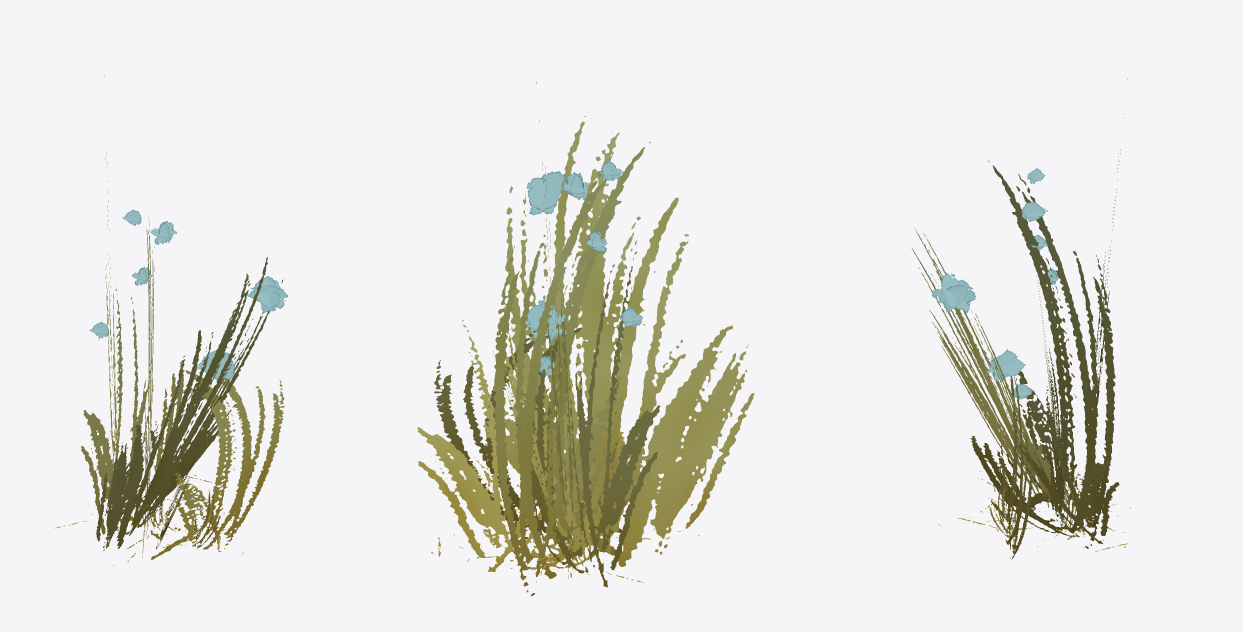
Rendered from grass26.fbx.
3 renders of one model, left to right at view 1: azimuth 30°, elevation 25°; view 2: azimuth 150°, elevation 25°; view 3: azimuth 270°, elevation 25°, orthographic. The views are drawn at different scales.
Parts seen in each view (by area): view 1: Glowing Flower 1_BAKED; view 2: Glowing Flower 1_BAKED; view 3: Glowing Flower 1_BAKED.
Boxes of the visible parts, <box> form: Glowing Flower 1_BAKED: <box>55,76,288,565</box>; Glowing Flower 1_BAKED: <box>417,82,754,595</box>; Glowing Flower 1_BAKED: <box>911,79,1130,559</box>.
Bounding box in the file's own units: 41.1 × 38.7 × 63.42.
